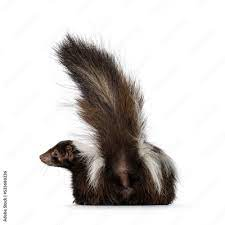skunk: (36, 32, 179, 206)
